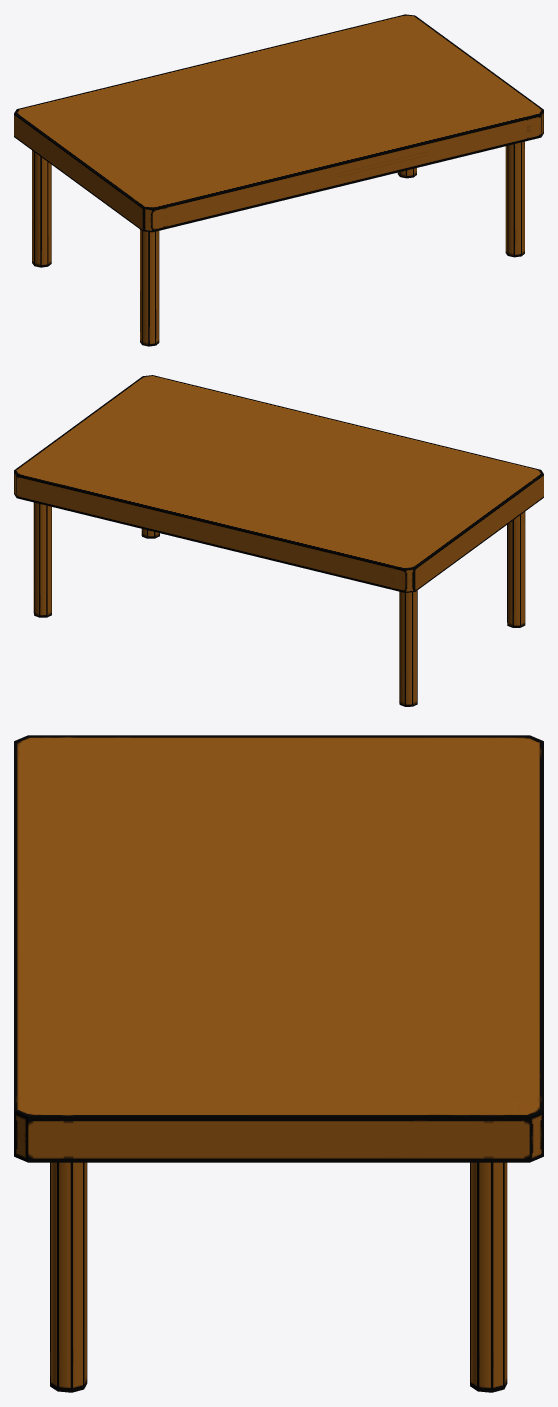
The model's file is Table 1.FBX.
3 views of the same model, one above another, from view 1: azimuth 30°, elevation 25°; view 2: azimuth 150°, elevation 25°; view 3: azimuth 270°, elevation 25° (orthographic). The views are drawn at different scales.
Parts seen in each view (by area): view 1: Table; view 2: Table; view 3: Table.
Boxes of the visible parts, x1=… form: Table: x1=14, y1=14, x2=543, y2=346; Table: x1=14, y1=375, x2=543, y2=706; Table: x1=14, y1=735, x2=543, y2=1392.
Bounding box in the file's own units: 515 × 180 × 303.
